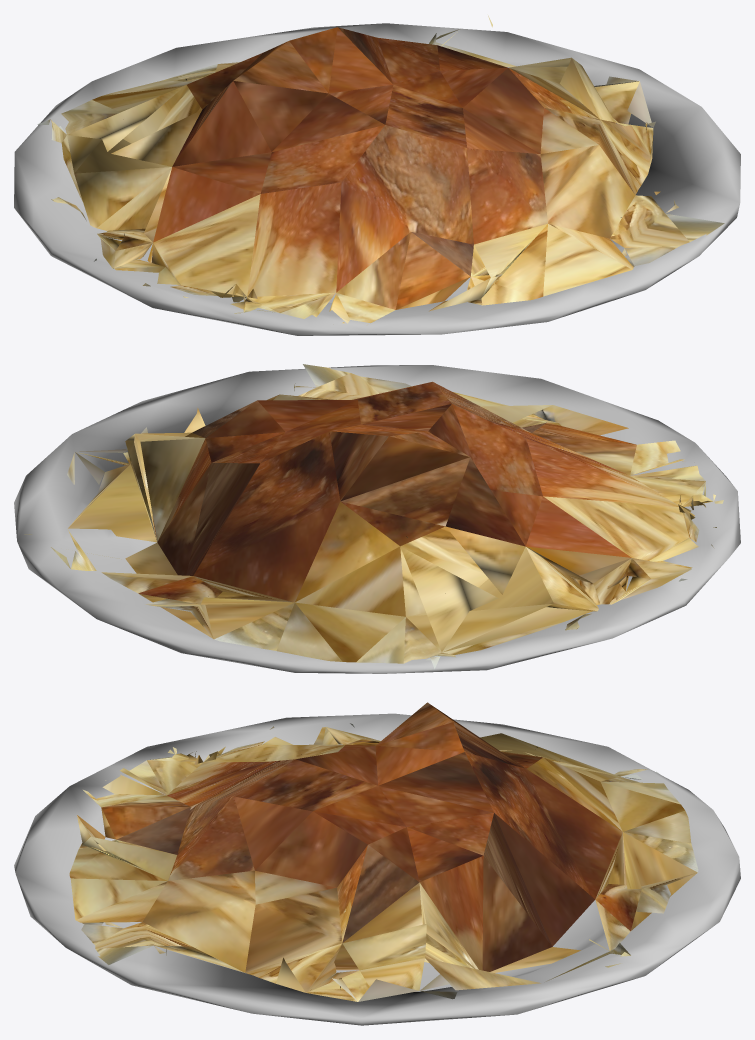
File: plateWithFood1.fbx
The picture shows the model from 3 angles, top to bottom: view 1: azimuth 30°, elevation 25°; view 2: azimuth 150°, elevation 25°; view 3: azimuth 270°, elevation 25°; orthographic projection.
Visible parts, largest first — view 1: Dish_Circle, plate; view 2: Dish_Circle, plate; view 3: Dish_Circle, plate.
Boxes of the visible parts, bbox=[...] form: Dish_Circle: bbox=[37, 15, 724, 323]; plate: bbox=[14, 23, 740, 335]; Dish_Circle: bbox=[24, 364, 723, 669]; plate: bbox=[14, 365, 740, 673]; Dish_Circle: bbox=[69, 702, 698, 1001]; plate: bbox=[14, 713, 740, 1025].
Size of the model in its own units: 116 by 28.9 by 116.
